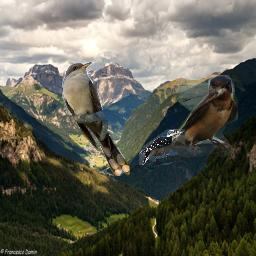Cuckoo: (62, 62, 130, 176)
Swallow: (166, 75, 238, 157)
Woodpecker: (139, 129, 185, 165)
